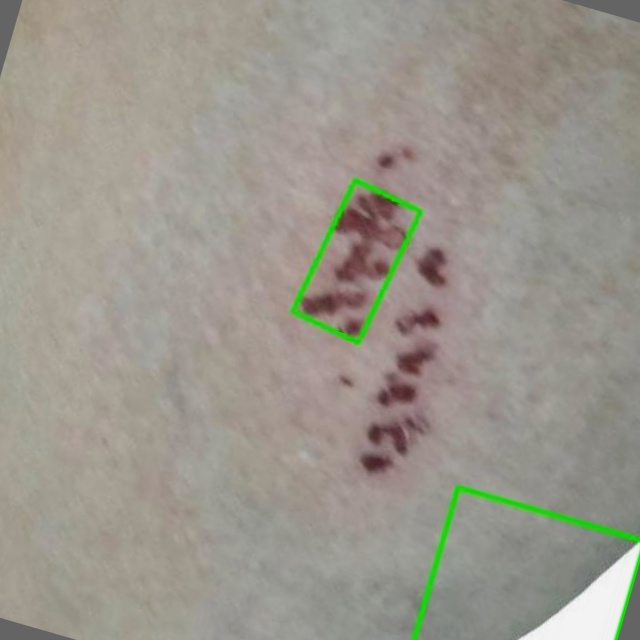Scabies: (292, 178, 420, 341)
